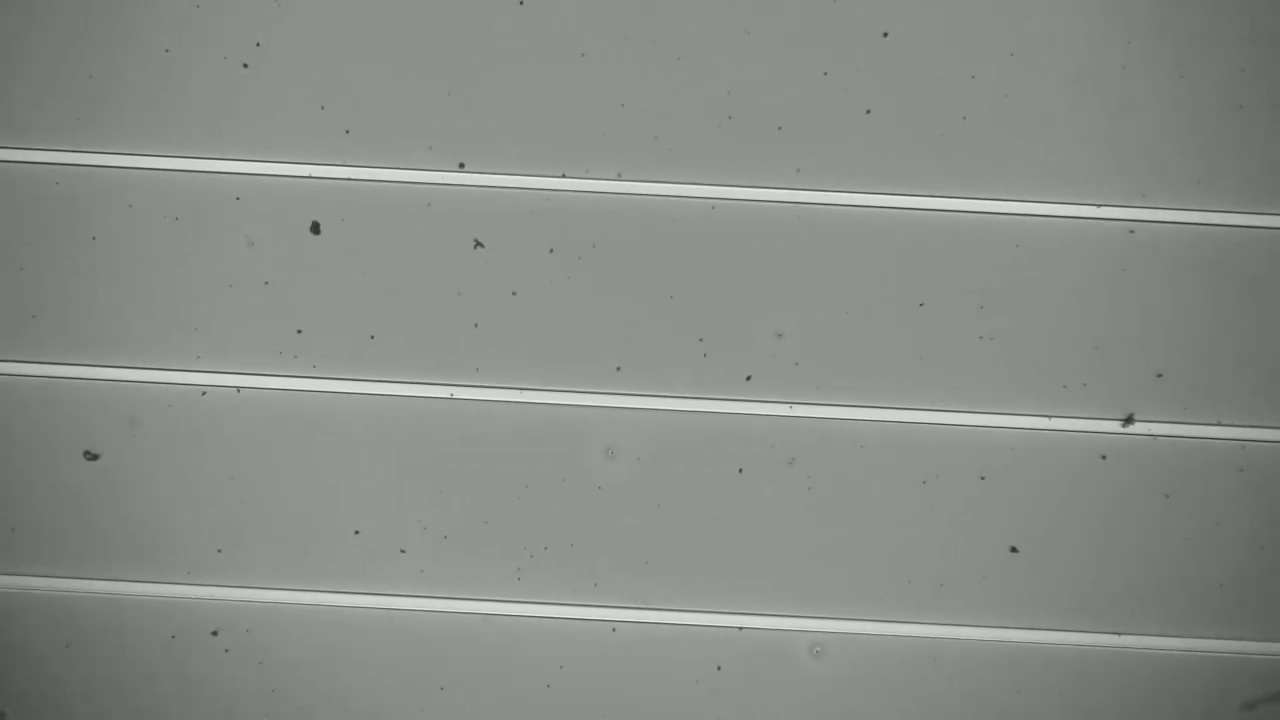stains_enbedded: (1113, 412, 1143, 443)
